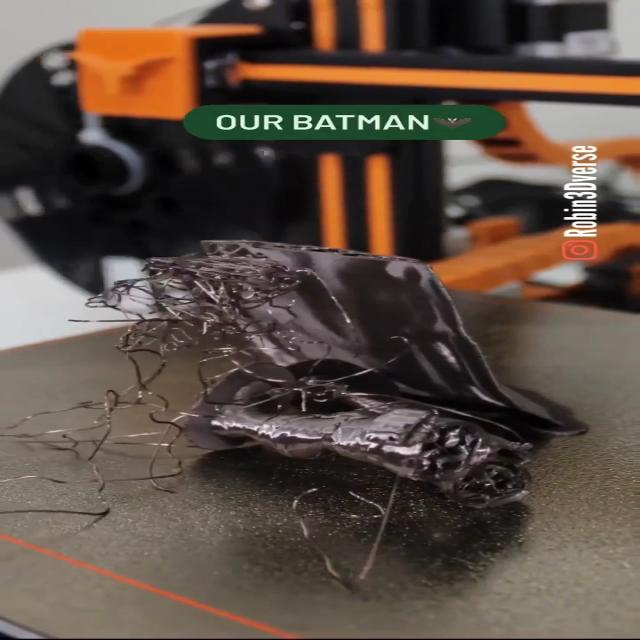spaghetti: (9, 238, 440, 602)
